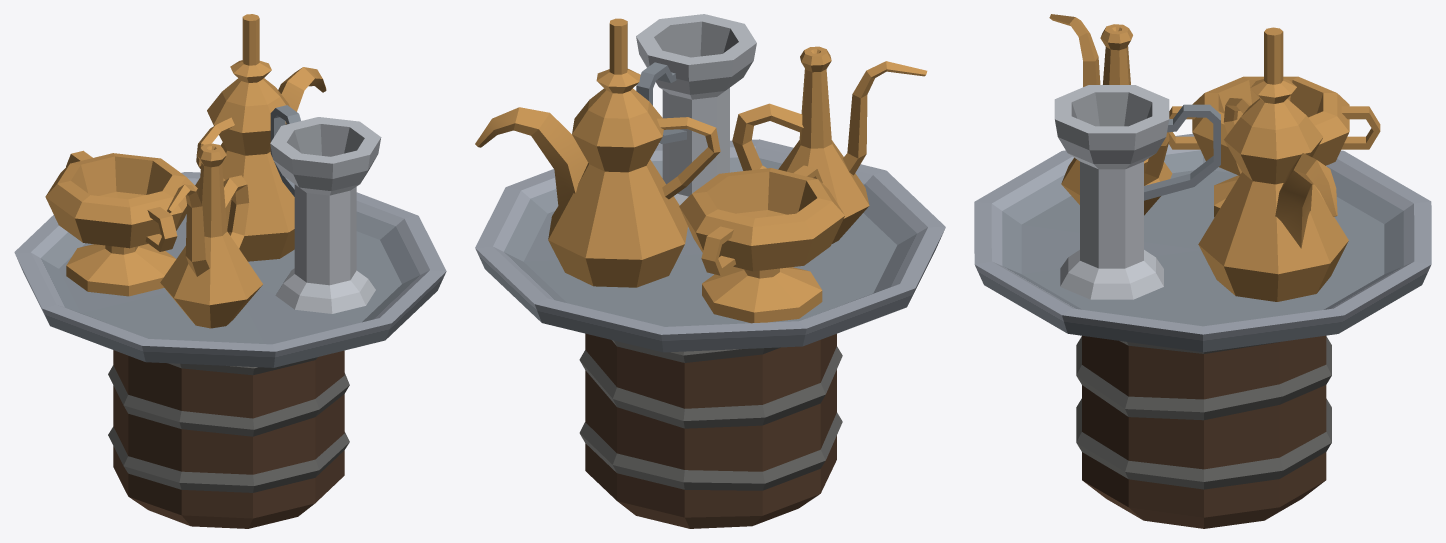
Rendered from SM_Prop_Gold_Plates_Preset_05.glb.
3 views of the same model, side by side, from view 1: azimuth 30°, elevation 25°; view 2: azimuth 150°, elevation 25°; view 3: azimuth 270°, elevation 25° (orthographic). The views are drawn at different scales.
Parts seen in each view (by area): view 1: SM_Prop_Gold_Plates_Preset_05; view 2: SM_Prop_Gold_Plates_Preset_05; view 3: SM_Prop_Gold_Plates_Preset_05.
Part boxes in pixels (x1,y1,x2,y2): SM_Prop_Gold_Plates_Preset_05: (14,14,446,528); SM_Prop_Gold_Plates_Preset_05: (475,14,945,528); SM_Prop_Gold_Plates_Preset_05: (974,14,1431,528).
Size of the model in its own units: 1.27 by 1.41 by 1.21.
Materials: 2 (2 with a texture image).
